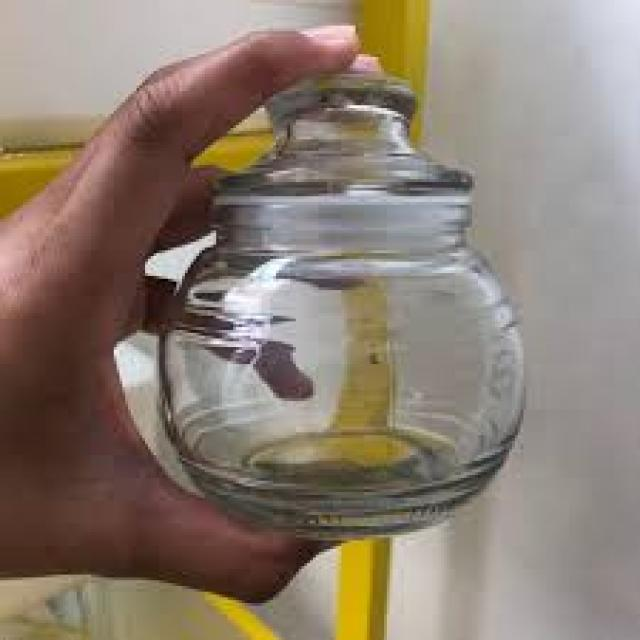ToplesKaca: (160, 56, 524, 542)
